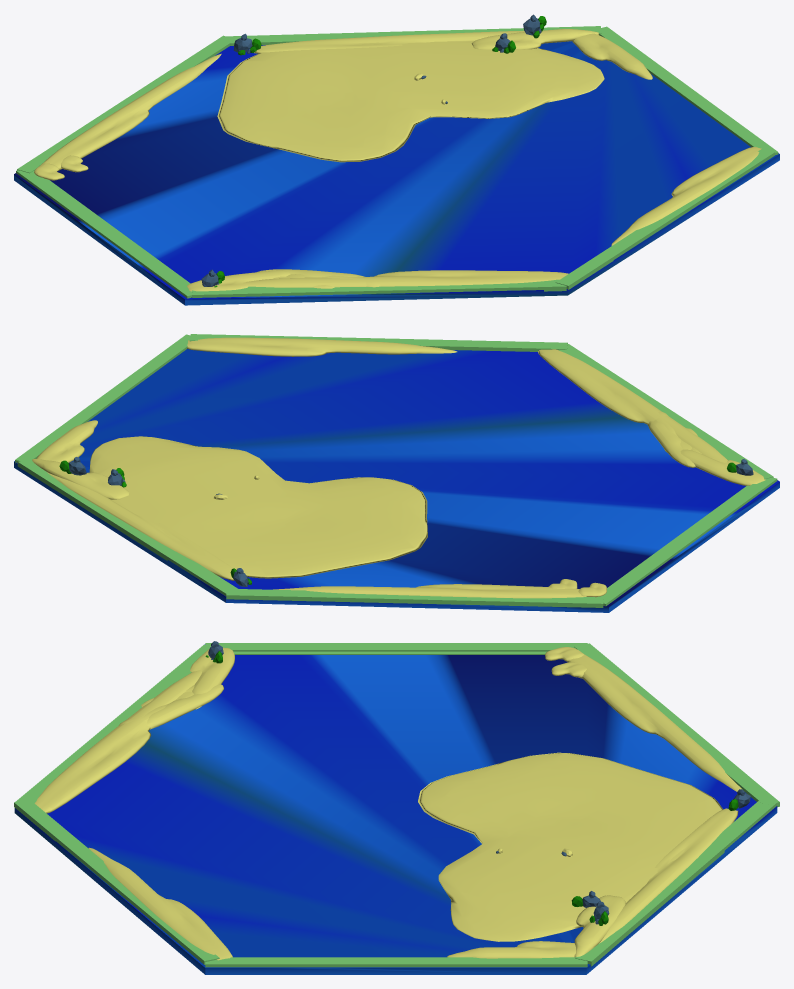
File: Hexagone ressource eau .fbx
3 views of the same model, one above another, from view 1: azimuth 30°, elevation 25°; view 2: azimuth 150°, elevation 25°; view 3: azimuth 270°, elevation 25° (orthographic). The views are drawn at different scales.
Visible parts, largest first — view 1: Cylindre, Mballe.007, Mballe.001, Mballe.006, Cube.007, Cube.005, Cube.003, Mballe.035, Cube.002, Mballe.004, Cube.006, Cube.008 (+3 smaller); view 2: Cylindre, Mballe.007, Mballe.001, Mballe.035, Cube.006, Mballe.006, Cube.008, Mballe.004, Cube.003, Cube.002, Cube.005, Cube.007 (+4 smaller); view 3: Cylindre, Mballe.007, Mballe.001, Mballe.006, Cube.002, Cube.008, Mballe.004, Mballe.035, Cube.003, Cube.005, Cube.006, Cube.007 (+5 smaller).
Part boxes in pixels (x1,y1,x2,y2): Cylindre: (14, 41, 779, 305); Mballe.007: (217, 41, 604, 162); Mballe.001: (243, 270, 568, 287); Mballe.006: (41, 53, 221, 170); Cube.007: (192, 279, 566, 297); Cube.005: (555, 148, 774, 289); Cube.003: (16, 170, 192, 298); Mballe.035: (611, 146, 761, 245); Cube.002: (599, 26, 778, 155); Mballe.004: (254, 30, 524, 53); Cube.006: (17, 35, 235, 173); Cube.008: (226, 26, 601, 45); Cylindre: (14, 349, 779, 612); Mballe.007: (89, 436, 427, 578); Mballe.001: (538, 349, 727, 462); Mballe.035: (187, 337, 457, 356); Cube.006: (226, 588, 603, 607); Mballe.006: (273, 584, 586, 598); Cube.008: (17, 458, 237, 596); Mballe.004: (47, 472, 234, 580); Cube.003: (598, 477, 777, 606); Cube.002: (15, 334, 190, 463); Cube.005: (189, 334, 567, 351); Cube.007: (558, 344, 773, 479); Cylindre: (14, 644, 777, 974); Mballe.007: (418, 752, 722, 941); Mballe.001: (34, 670, 201, 813); Mballe.006: (567, 655, 742, 791); Cube.002: (205, 957, 587, 967); Cube.008: (575, 801, 776, 966); Mballe.004: (599, 808, 738, 943); Mballe.035: (88, 847, 232, 960); Cube.003: (205, 643, 587, 651); Cube.005: (14, 799, 219, 964); Cube.006: (574, 643, 779, 807); Cube.007: (15, 644, 210, 802).
Bounding box in the file's own units: 2009 × 104 × 2009.
